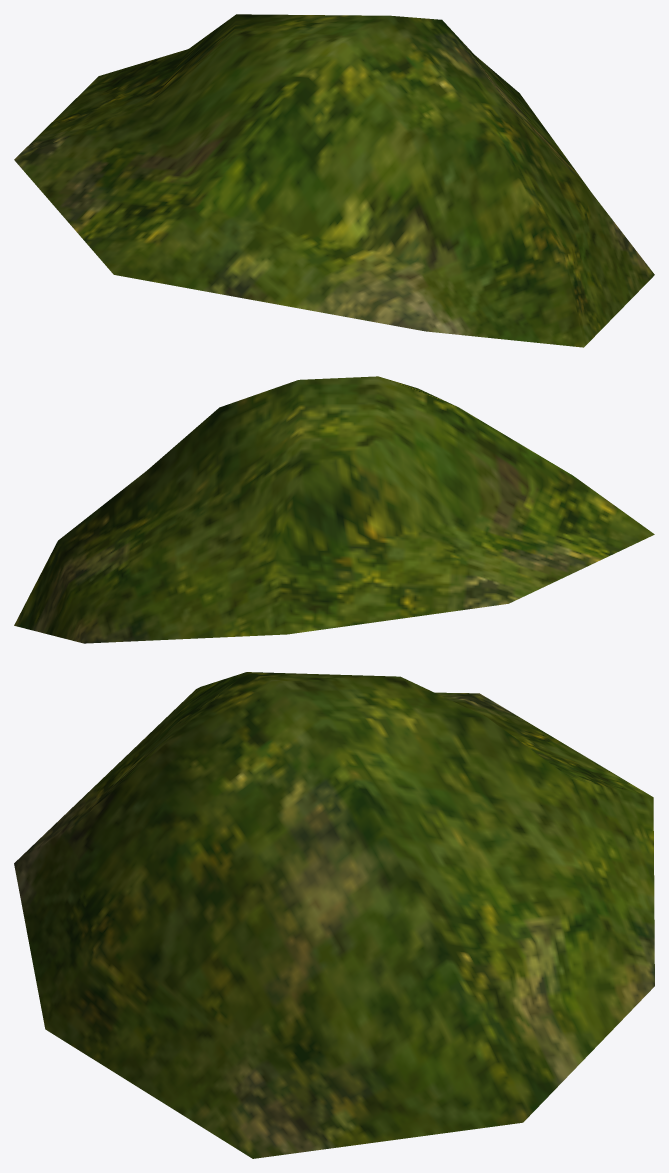
The model's file is OVERHILL_A_01_BR_ROCK201.fbx.
3 views of the same model, one above another, from view 1: azimuth 30°, elevation 25°; view 2: azimuth 150°, elevation 25°; view 3: azimuth 270°, elevation 25° (orthographic). The views are drawn at different scales.
Visible parts, largest first — view 1: OVERHILL_A_01_BR_ROCK201; view 2: OVERHILL_A_01_BR_ROCK201; view 3: OVERHILL_A_01_BR_ROCK201.
Boxes of the visible parts, <box> form: OVERHILL_A_01_BR_ROCK201: <box>14,14,654,347</box>; OVERHILL_A_01_BR_ROCK201: <box>14,376,654,643</box>; OVERHILL_A_01_BR_ROCK201: <box>14,672,654,1158</box>.
Size of the model in its own units: 10971 by 5462 by 9930.
1 material, 1 textured.
